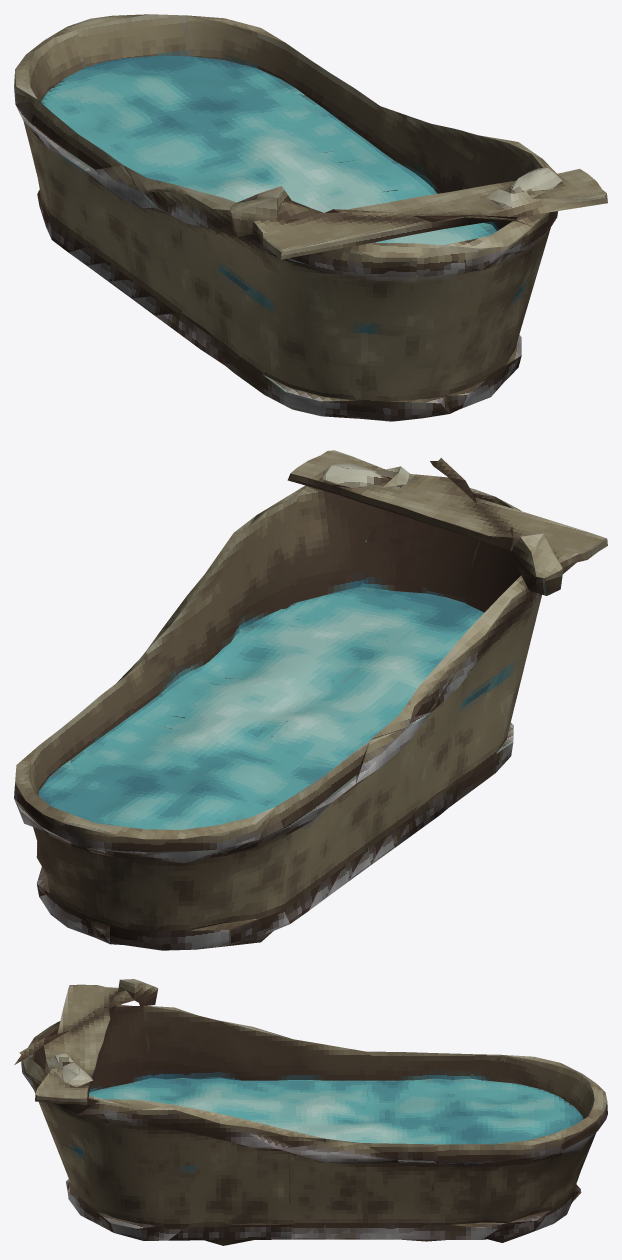
The model's file is ofuro_wood.glb.
The picture shows the model from 3 angles, top to bottom: view 1: azimuth 30°, elevation 25°; view 2: azimuth 150°, elevation 25°; view 3: azimuth 270°, elevation 25°; orthographic projection. The views are drawn at different scales.
Parts seen in each view (by area): view 1: mesh; view 2: mesh; view 3: mesh.
Boxes of the visible parts, <box> form: mesh: <box>14,14,607,421</box>; mesh: <box>14,450,607,950</box>; mesh: <box>14,979,607,1245</box>.
Bounding box in the file's own units: 0.8385 × 0.5999 × 1.83.
1 material, 1 textured.
